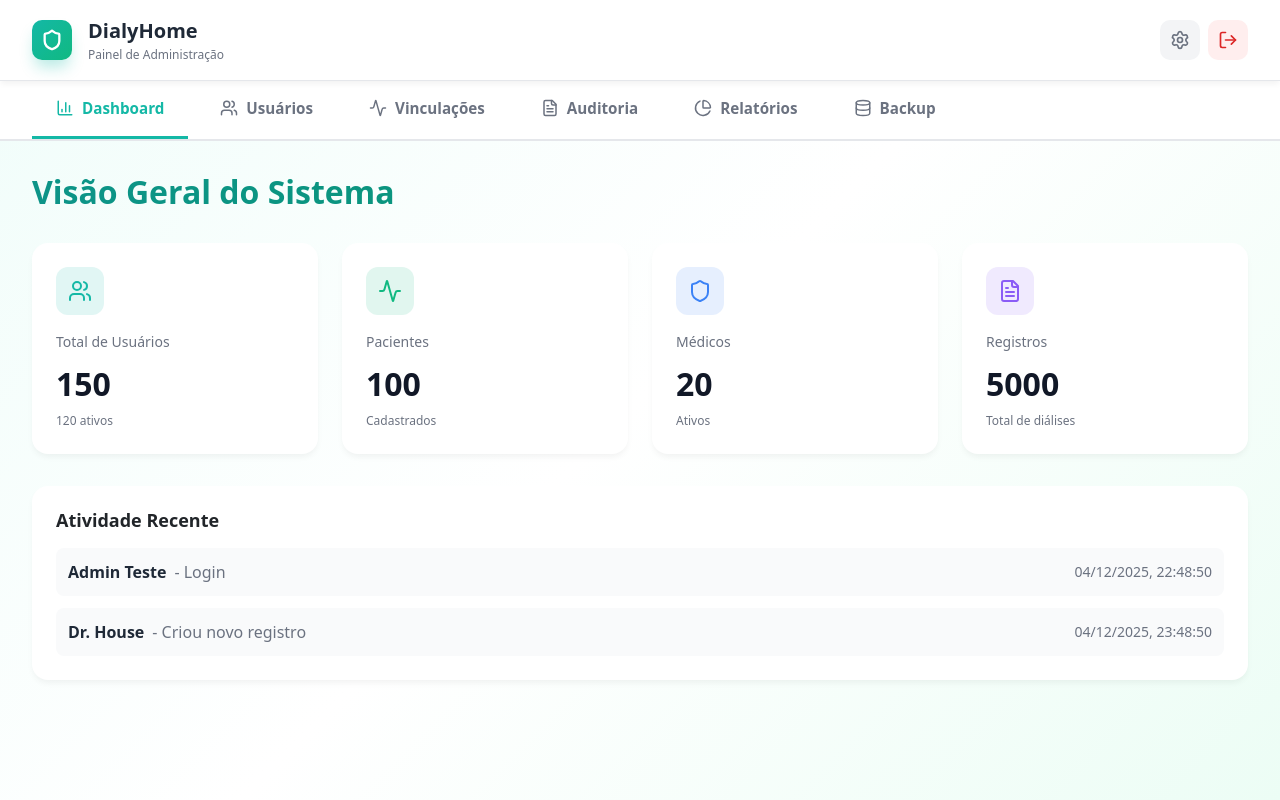
Scenario: UsersView - Fluxos › deleta usuário e recarrega lista
Click the button "Usuários" at (267, 110), box left=196, top=81, right=337, bottom=139
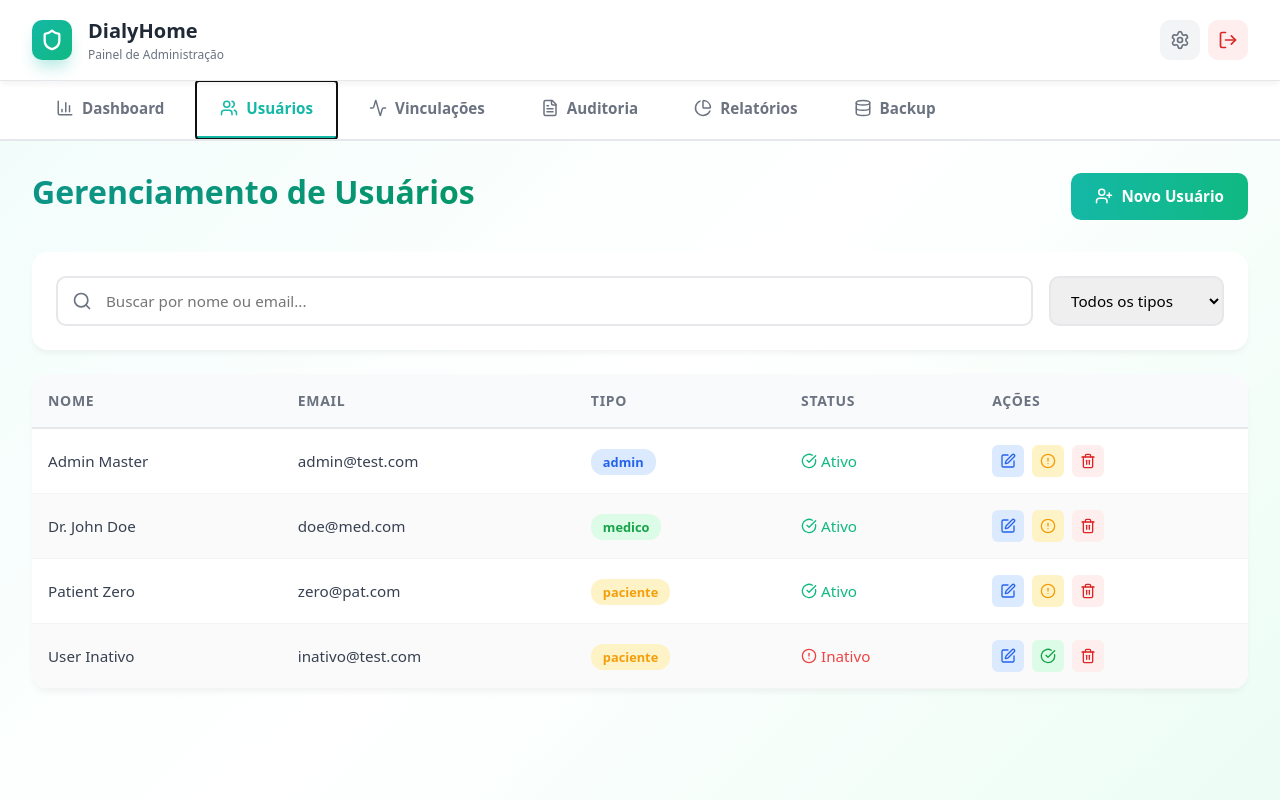
expect the text "Admin Master" is shown: met, box left=32, top=428, right=282, bottom=494
expect the button titled "Excluir" in the row of "Admin Master" is shown: met
Click the button titled "Excluir" in the row of "Admin Master" at (1088, 461), box left=1072, top=445, right=1104, bottom=477
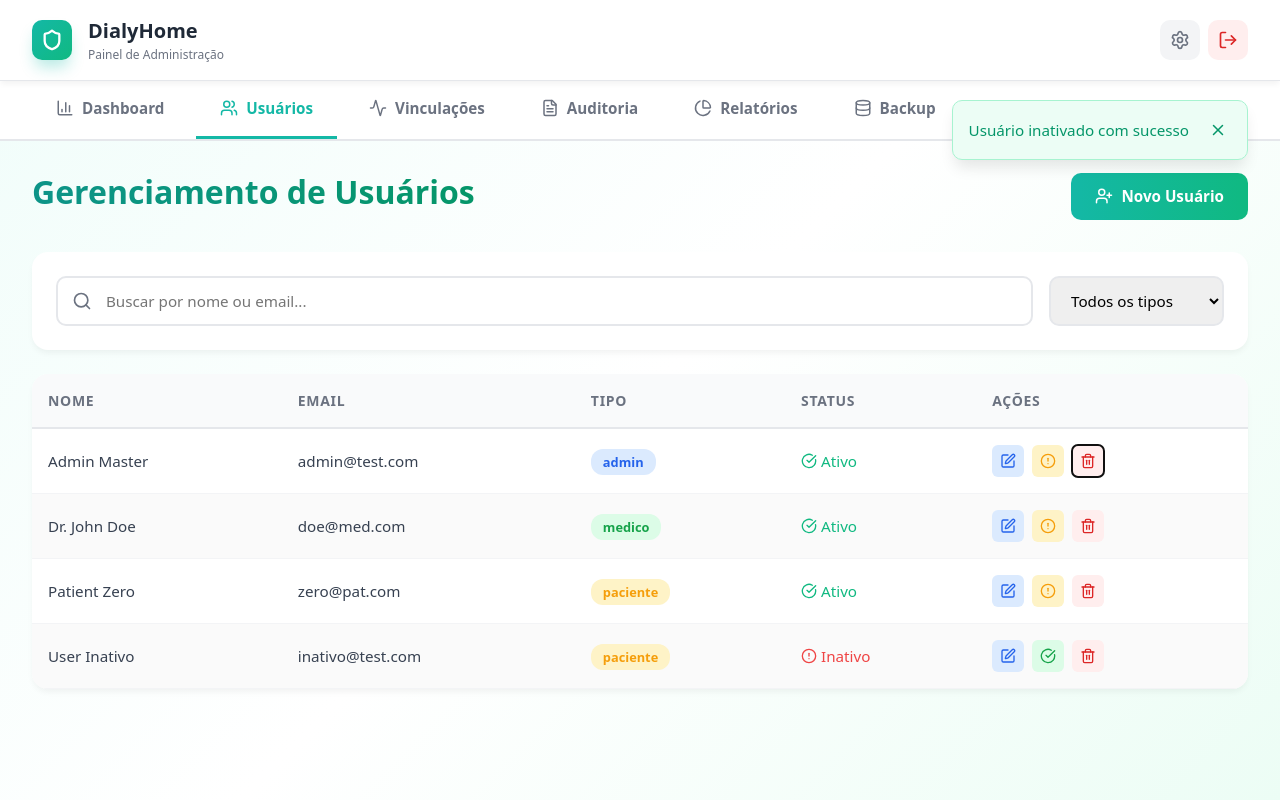
expect the text "Usuário inativado com sucesso" is shown: met, box left=969, top=119, right=1189, bottom=141
